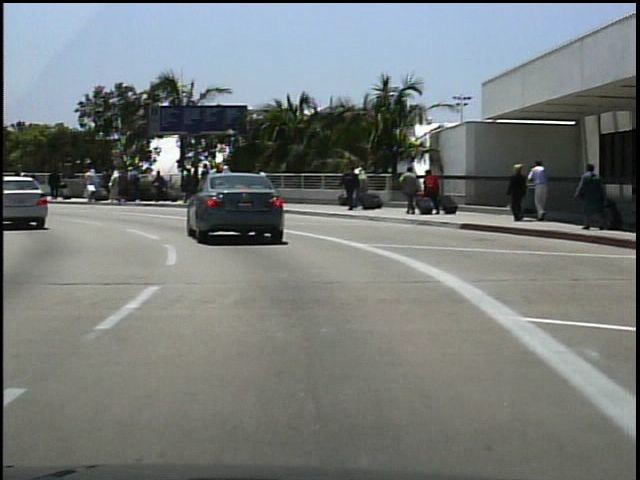person: (574, 161, 608, 231), (529, 157, 554, 227), (506, 160, 530, 224), (398, 163, 421, 217), (341, 164, 361, 213), (423, 165, 442, 212), (35, 166, 57, 203), (50, 165, 66, 201), (16, 165, 29, 200)
